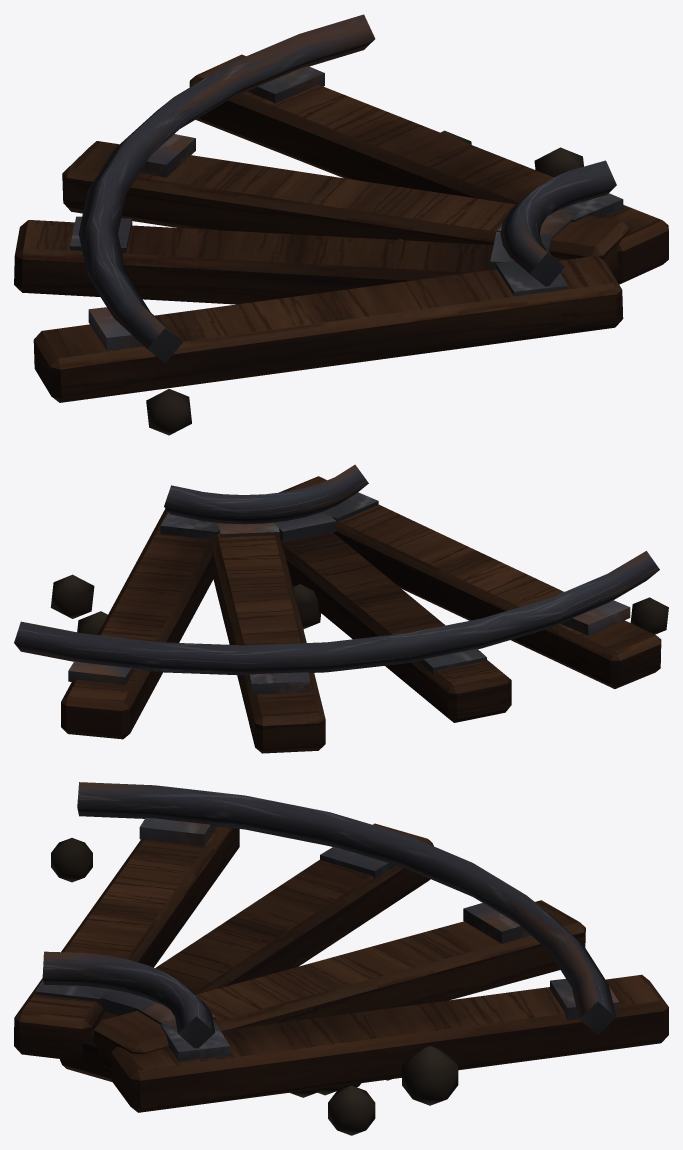
The model's file is nidavellir_rail_curve.glb.
The picture shows the model from 3 angles, top to bottom: view 1: azimuth 30°, elevation 25°; view 2: azimuth 150°, elevation 25°; view 3: azimuth 270°, elevation 25°; orthographic projection. The views are drawn at different scales.
Parts seen in each view (by area): view 1: nidavellir_rail_curve; view 2: nidavellir_rail_curve; view 3: nidavellir_rail_curve.
Boxes of the visible parts, x1=… form: nidavellir_rail_curve: x1=14, y1=14, x2=668, y2=435; nidavellir_rail_curve: x1=14, y1=464, x2=668, y2=753; nidavellir_rail_curve: x1=14, y1=782, x2=668, y2=1135.
Size of the model in its own units: 1.03 by 0.1773 by 0.9759.
Materials: 3 (3 with a texture image).
